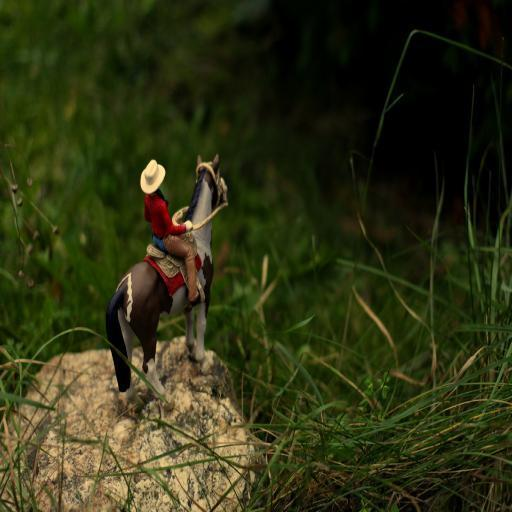horse: (104, 152, 230, 416)
